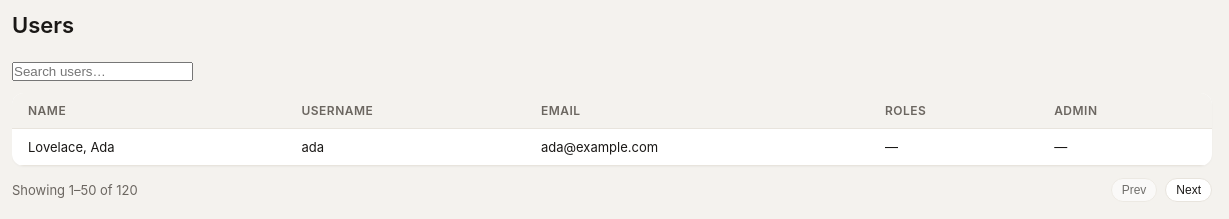
Test: AdminUsersPage › clamps an out-of-range offset back to the last valid page instead of stranding the admin (P2)
Click the button "Next" at coordinates (1189, 190), box [1165,178,1212,202]
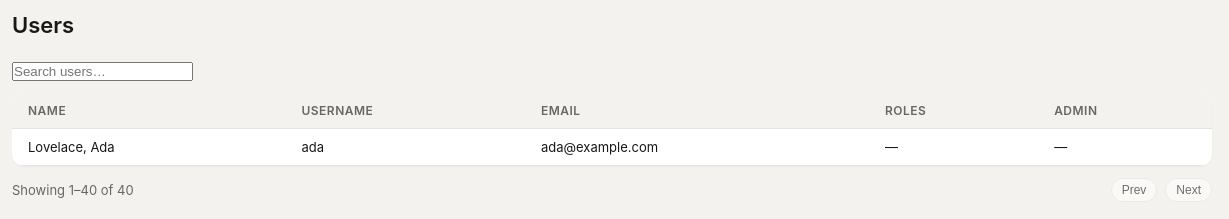
Expected: the button "Prev" is disabled, [1111,178,1157,202]
Expected: the text "Showing 1–40 of 40" is shown, [12,182,134,198]
Expected: the button "Next" is disabled, [1165,178,1212,202]
